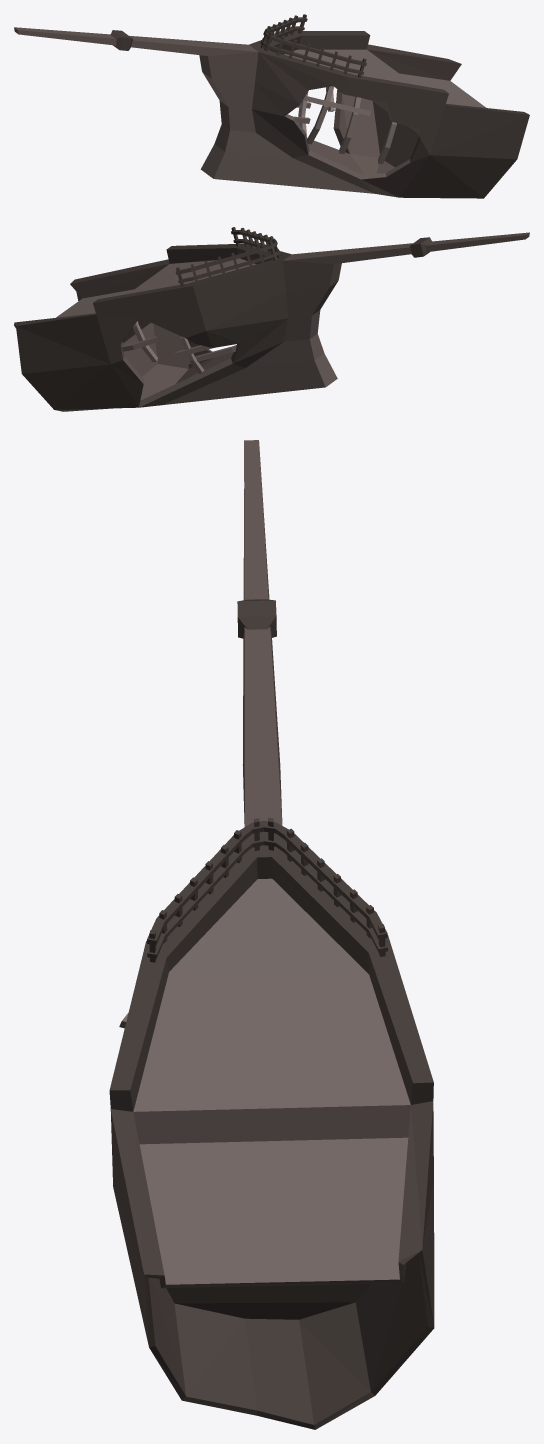
Rendered from Ship_021.glb.
3 renders of one model, top to bottom at view 1: azimuth 30°, elevation 25°; view 2: azimuth 150°, elevation 25°; view 3: azimuth 270°, elevation 25°, orthographic. The views are drawn at different scales.
Parts seen in each view (by area): view 1: Ship_021; view 2: Ship_021; view 3: Ship_021.
Part boxes in pixels (box(x1,y1,x2,y2)): Ship_021: box(14, 14, 529, 198); Ship_021: box(14, 227, 529, 411); Ship_021: box(109, 440, 434, 1429).
Size of the model in its own units: 13.55 by 7.44 by 3.97.
1 material, 1 textured.
